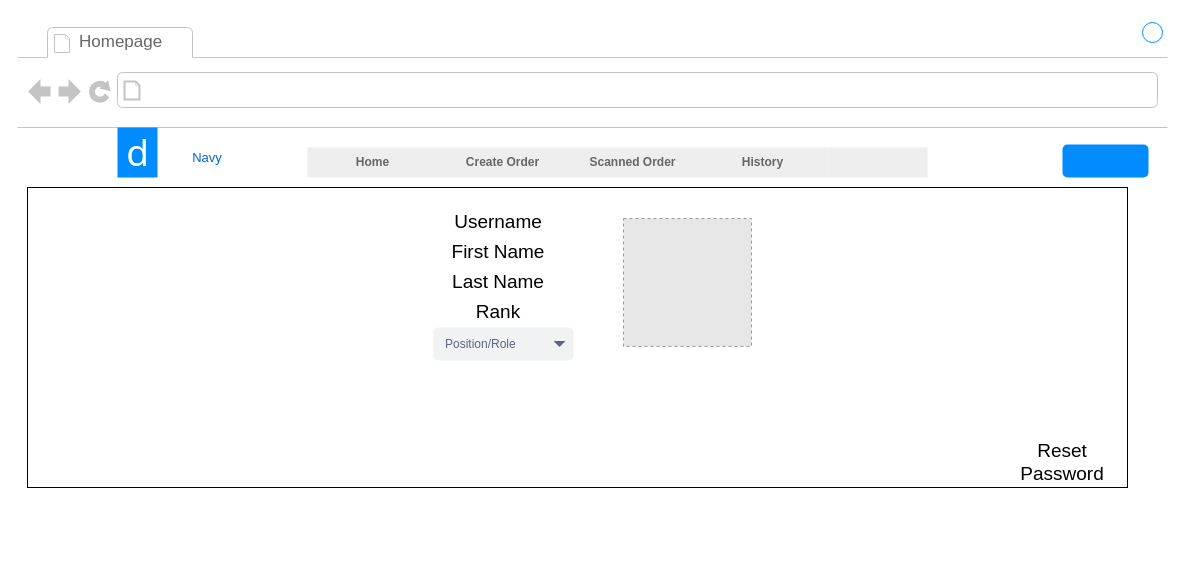
This 1185x565 diagram has some shape labels left out. Grey dashed boxes stand in for pictures. Each missing label, with the centre of its shape:
"Help" goes at pixel 877 162.
"https://www.example.com" goes at pixel 272 90.
"Login/Logout" goes at pixel 1105 160.
